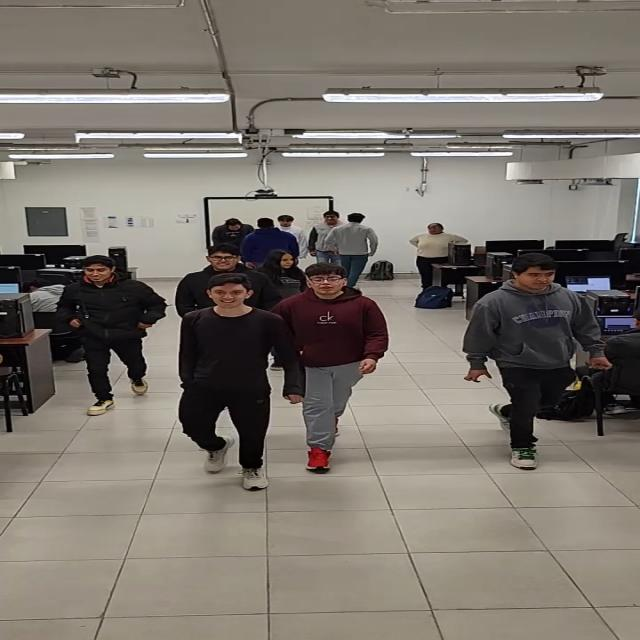Persona: (463, 252, 613, 471), (178, 272, 307, 492), (270, 262, 388, 471), (57, 255, 169, 416), (176, 244, 278, 319), (408, 223, 470, 290), (324, 213, 380, 287), (239, 218, 298, 268), (254, 248, 307, 300), (304, 210, 348, 266), (270, 215, 308, 258), (212, 218, 256, 250)
